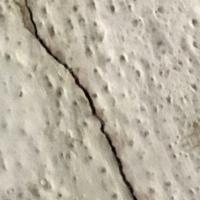crack: (18, 0, 145, 199)
